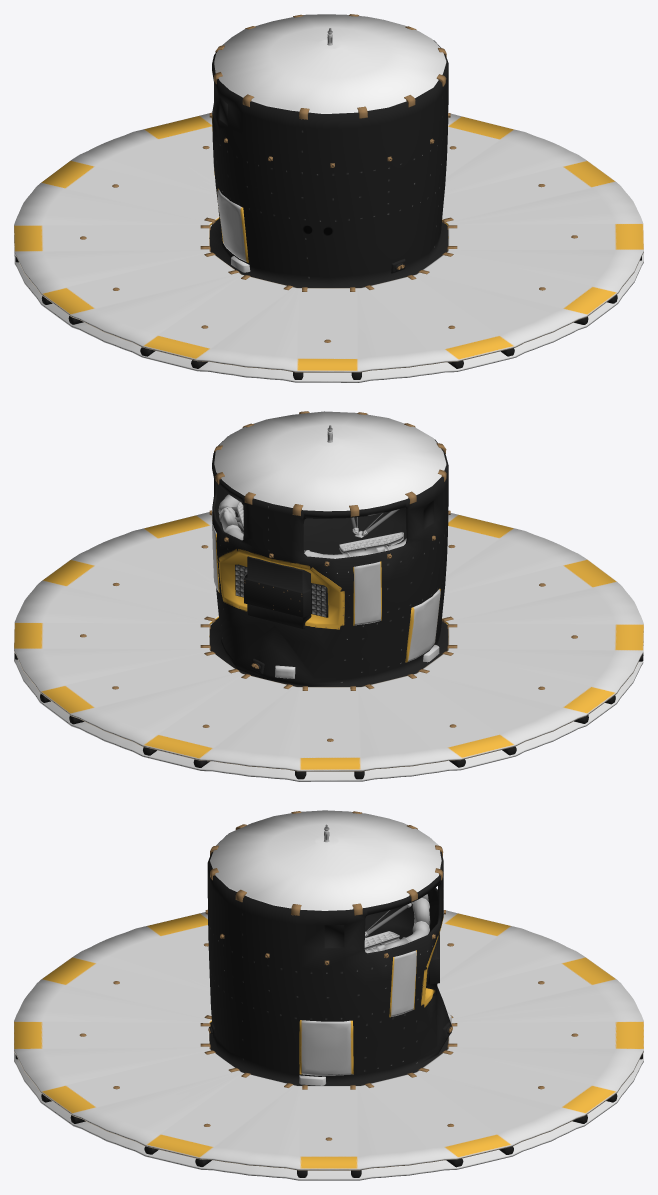
File: gaia.glb
3 views of the same model, one above another, from view 1: azimuth 30°, elevation 25°; view 2: azimuth 150°, elevation 25°; view 3: azimuth 270°, elevation 25° (orthographic).
Parts seen in each view (by area): view 1: SM_Gaia_low; view 2: SM_Gaia_low; view 3: SM_Gaia_low.
Part boxes in pixels (left/top/right/bottom): SM_Gaia_low: left=14, top=14, right=643, bottom=382; SM_Gaia_low: left=14, top=411, right=643, bottom=781; SM_Gaia_low: left=14, top=810, right=643, bottom=1180.
Bounding box in the file's own units: 100 × 40.13 × 99.99.
2 materials, 2 textured.
